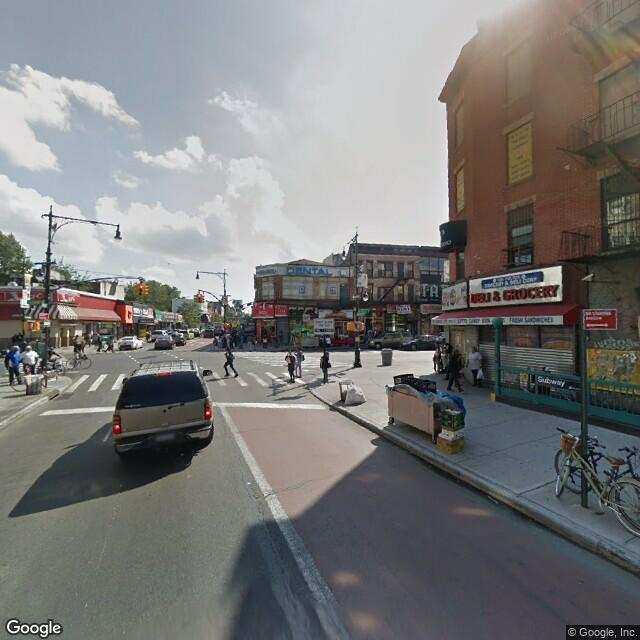litter: (386, 374, 474, 452), (334, 376, 365, 411)
